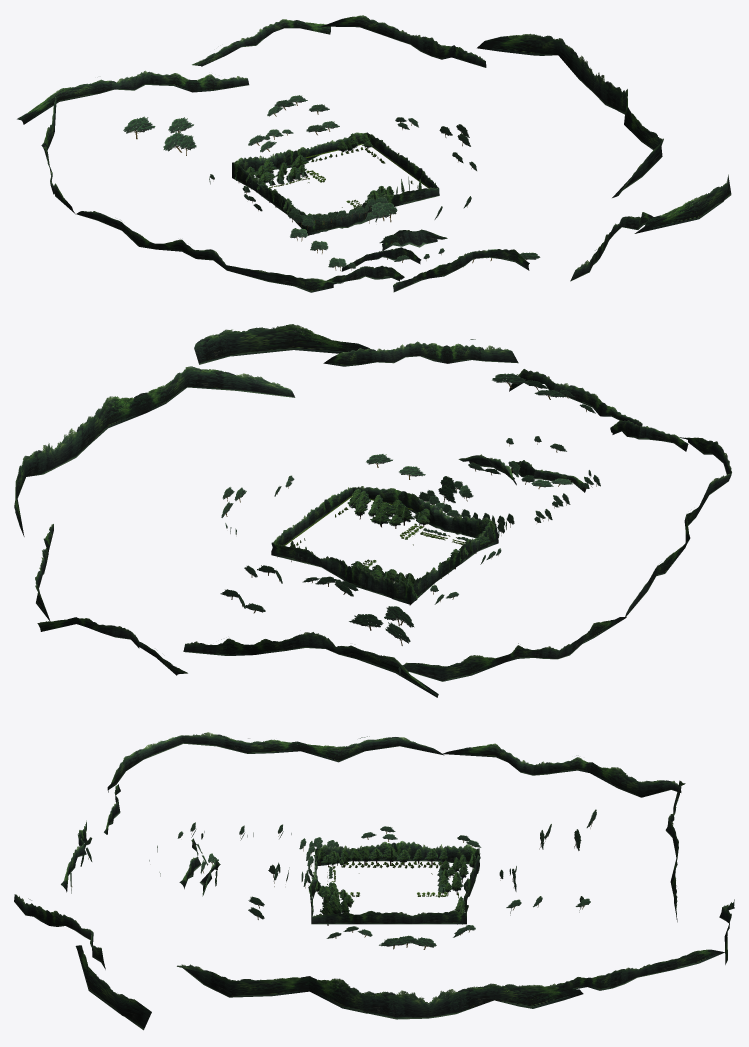
File: st_030_trees.fbx
The picture shows the model from 3 angles, top to bottom: view 1: azimuth 30°, elevation 25°; view 2: azimuth 150°, elevation 25°; view 3: azimuth 270°, elevation 25°; orthographic projection. The views are drawn at different scales.
Visible parts, largest first — view 1: st_030_trees1; view 2: st_030_trees1; view 3: st_030_trees1.
Boxes of the visible parts, box(x1,y1,x2,y2) form: st_030_trees1: box(17, 15, 731, 292); st_030_trees1: box(14, 324, 731, 697); st_030_trees1: box(14, 732, 734, 1030).
Size of the model in its own units: 1004 by 117 by 1124.
